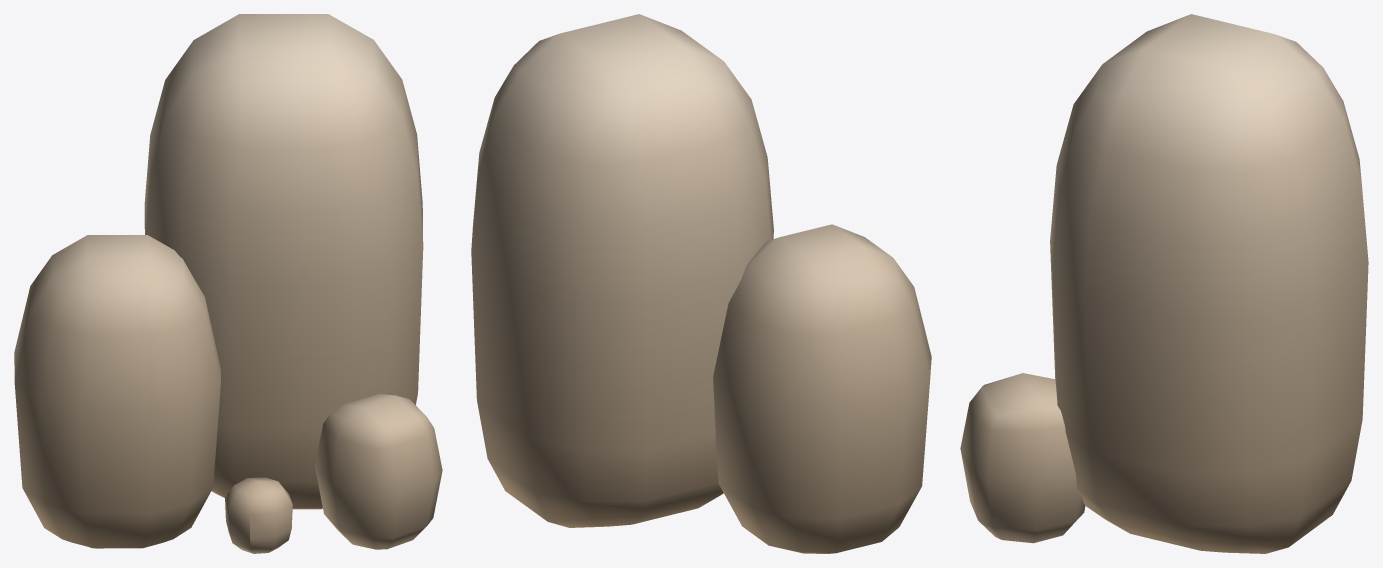
File: Rock_6_E_Color7.fbx
3 views of the same model, side by side, from view 1: azimuth 30°, elevation 25°; view 2: azimuth 150°, elevation 25°; view 3: azimuth 270°, elevation 25° (orthographic). The views are drawn at different scales.
Visible parts, largest first — view 1: Rock_6_E_Color7; view 2: Rock_6_E_Color7; view 3: Rock_6_E_Color7.
Boxes of the visible parts, x1,y1,x2,y2 form: Rock_6_E_Color7: [14, 14, 442, 553]; Rock_6_E_Color7: [471, 14, 931, 553]; Rock_6_E_Color7: [960, 14, 1368, 553].
Size of the model in its own units: 1.94 by 2.08 by 1.58.
